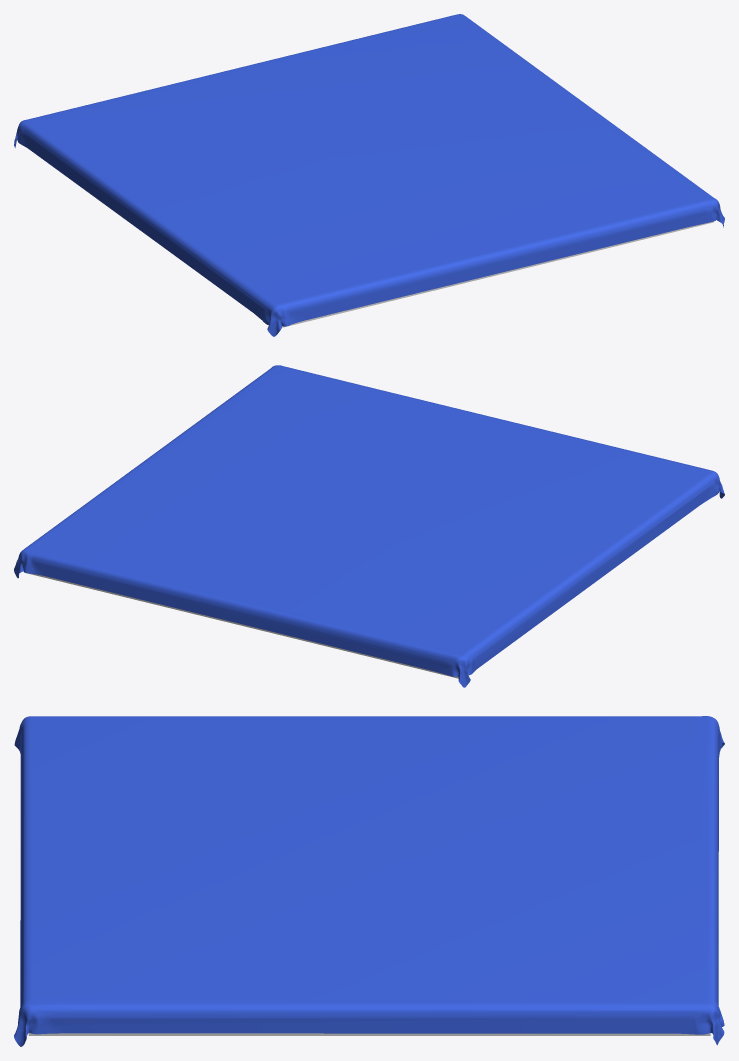
File: tablecloth.fbx
3 views of the same model, one above another, from view 1: azimuth 30°, elevation 25°; view 2: azimuth 150°, elevation 25°; view 3: azimuth 270°, elevation 25° (orthographic). The views are drawn at different scales.
Visible parts, largest first — view 1: Table; view 2: Table; view 3: Table.
Part boxes in pixels (<box>): Table: <box>14,14,724,336</box>; Table: <box>14,365,724,687</box>; Table: <box>14,716,724,1046</box>.
Bounding box in the file's own units: 209 × 12.58 × 209.
